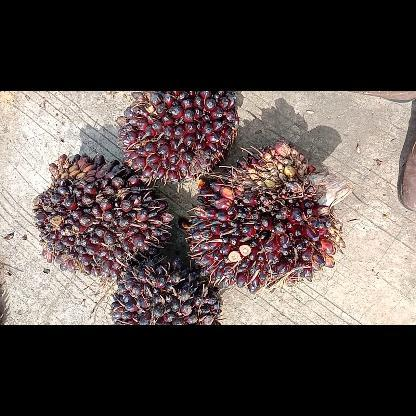TBS mentah: (185, 138, 347, 292), (28, 151, 174, 279), (113, 90, 243, 186), (109, 256, 223, 324)
